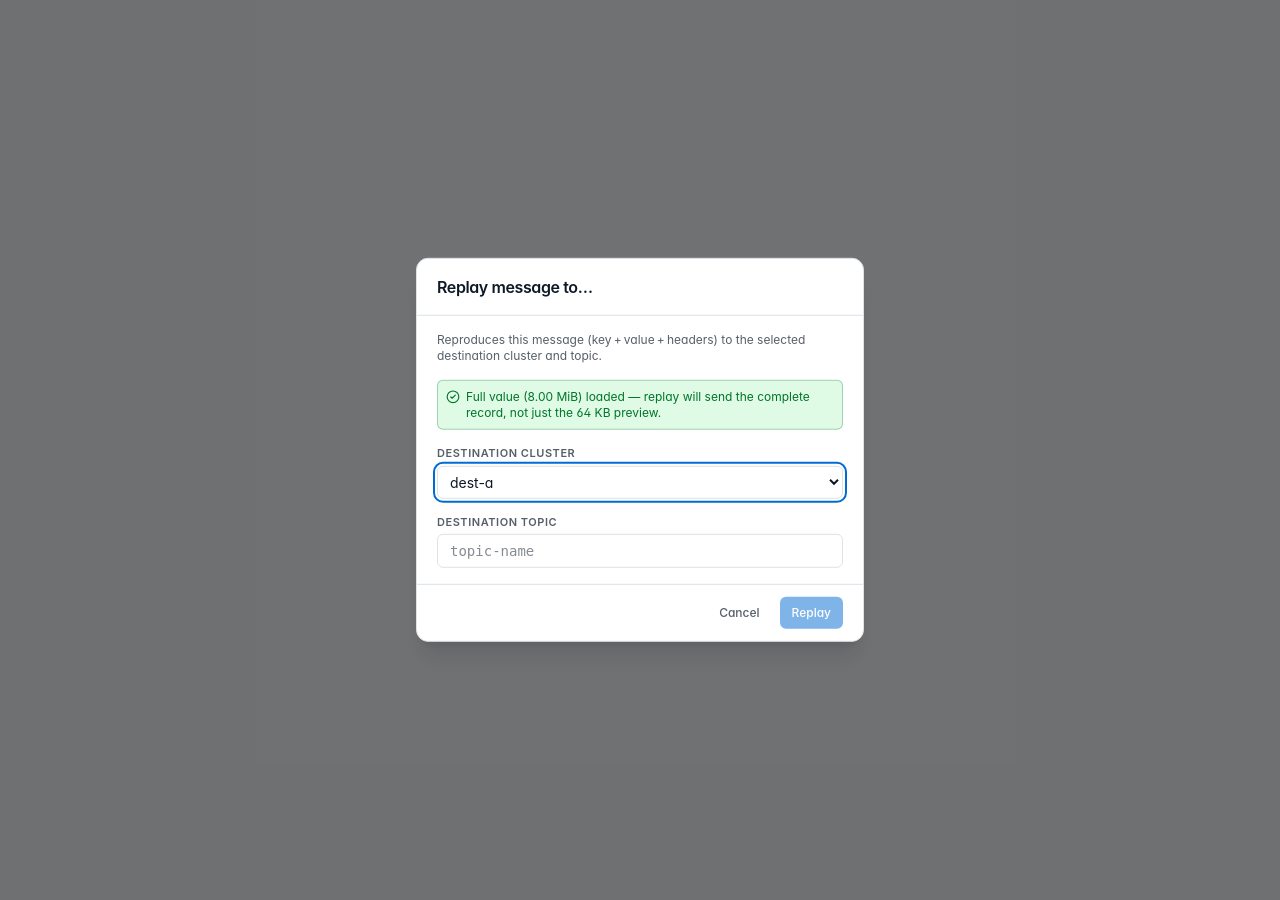
Test case: ReplayModal truncated value handling › auto-fetches and uses the full value, enabling Replay without any opt-in
The image size is (1280, 900).
In the field with placeholder "topic-name": (640, 551) left=437, top=534, right=843, bottom=568, type "dest-topic"
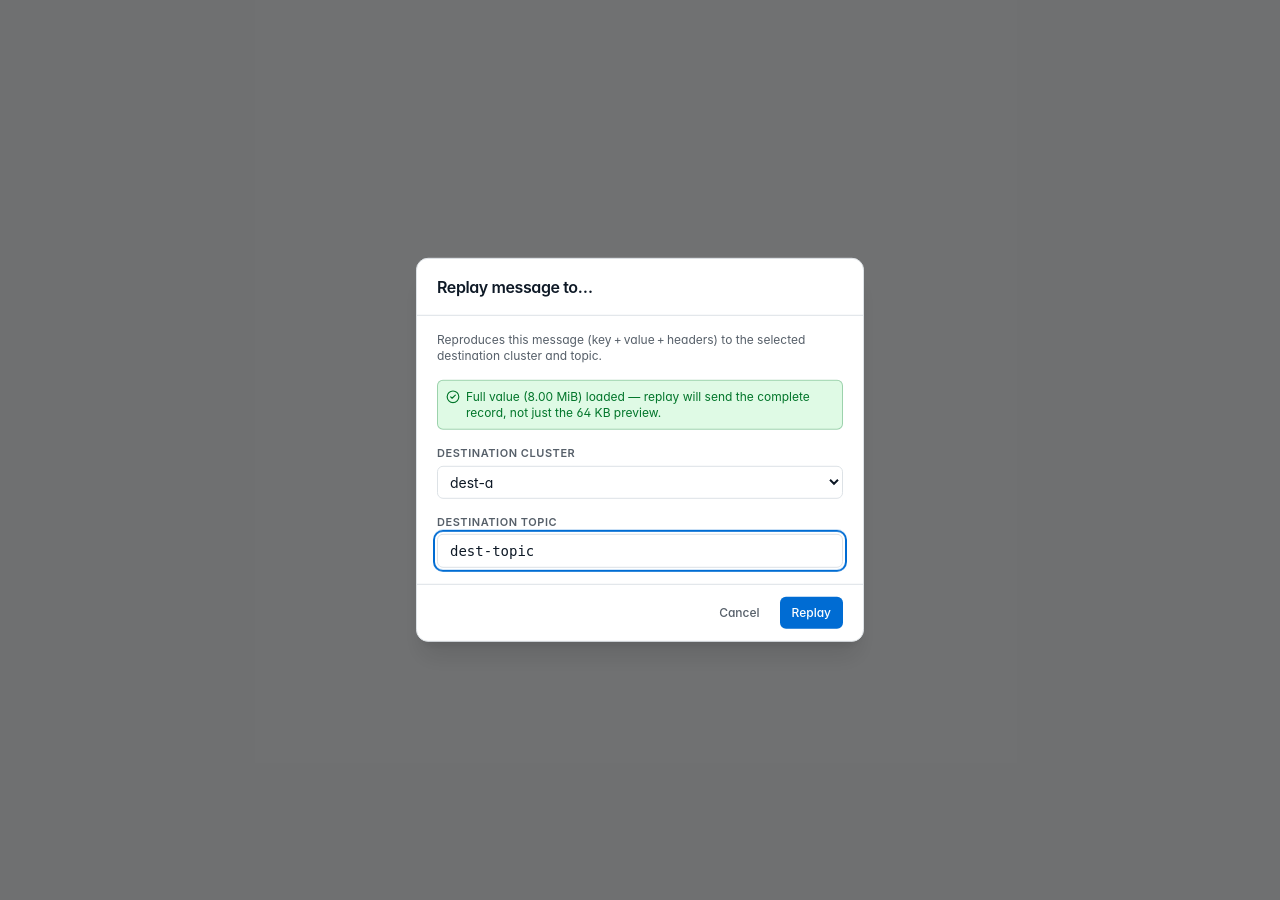
Now the button "Replay" is enabled, box left=780, top=597, right=843, bottom=629
